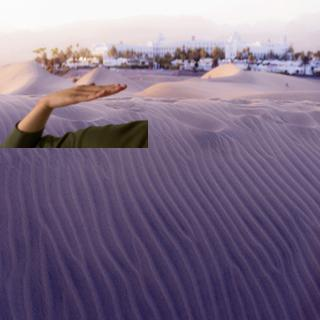WAIT: (43, 77, 130, 108)
